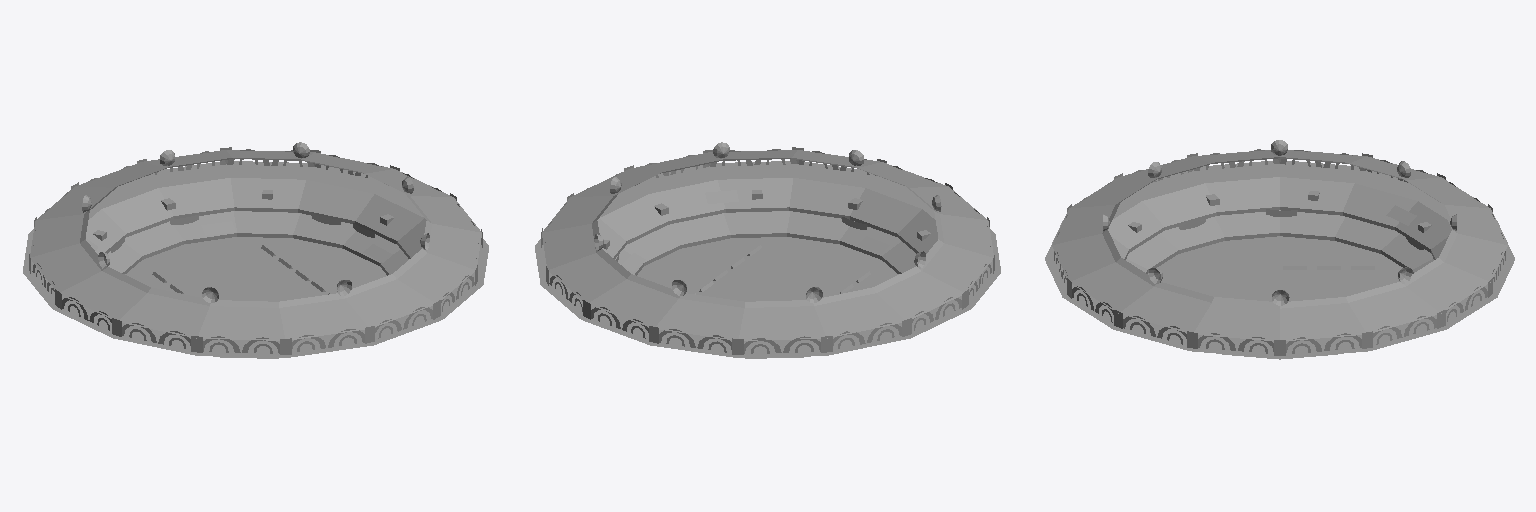
File: stadium.obj
3 views of the same model, side by side, from view 1: azimuth 30°, elevation 25°; view 2: azimuth 150°, elevation 25°; view 3: azimuth 270°, elevation 25° (orthographic).
Size of the model in its own units: 29.6 by 5.74 by 29.6.